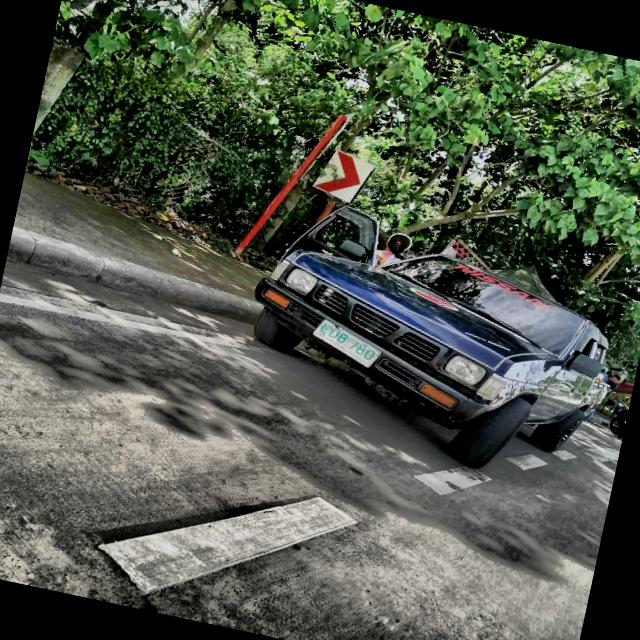license-plate: (311, 317, 382, 369)
